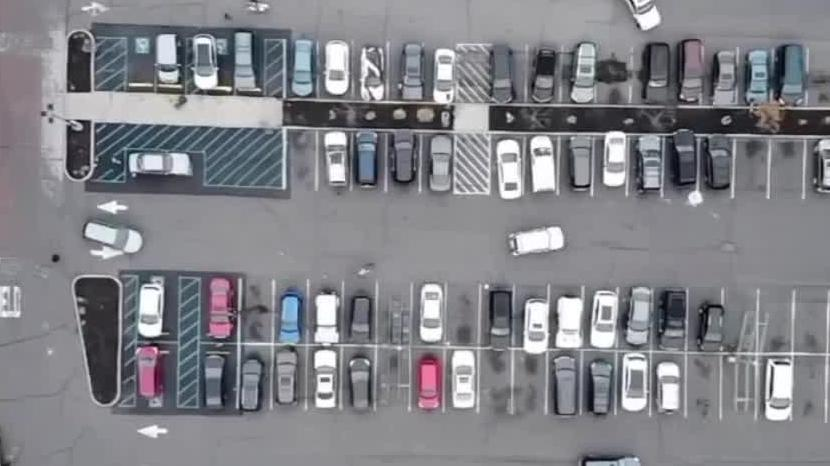car: (79, 219, 145, 258), (446, 350, 484, 417), (762, 357, 797, 427), (507, 221, 566, 261), (776, 47, 812, 112), (639, 43, 674, 108), (491, 141, 526, 206), (126, 150, 197, 182), (676, 39, 707, 108), (703, 141, 739, 200), (308, 351, 341, 415), (552, 355, 584, 421), (623, 355, 657, 417), (320, 130, 353, 193), (669, 133, 702, 196), (586, 360, 618, 423), (486, 290, 517, 355), (489, 45, 520, 109), (528, 138, 561, 198), (522, 300, 556, 358), (661, 288, 692, 351), (655, 362, 686, 425), (564, 134, 596, 195), (206, 276, 236, 341), (417, 276, 446, 341), (573, 44, 601, 111), (346, 355, 377, 415), (416, 355, 447, 415), (555, 294, 587, 352), (192, 36, 225, 92), (591, 291, 621, 352), (426, 135, 455, 197), (622, 0, 669, 38), (388, 132, 418, 191), (351, 130, 380, 191), (314, 292, 345, 349), (326, 41, 355, 101), (399, 41, 428, 101), (240, 356, 268, 418), (154, 33, 185, 89), (638, 136, 667, 195), (134, 347, 163, 406), (231, 35, 260, 93), (746, 54, 775, 112), (699, 302, 729, 358), (203, 353, 230, 415), (138, 283, 166, 342), (290, 39, 317, 100), (532, 48, 558, 111), (432, 47, 459, 107), (627, 286, 652, 350), (362, 45, 390, 102), (276, 350, 303, 409), (605, 134, 631, 195), (276, 293, 305, 346), (713, 46, 738, 107), (577, 446, 641, 466), (351, 296, 375, 349), (814, 144, 830, 202)
